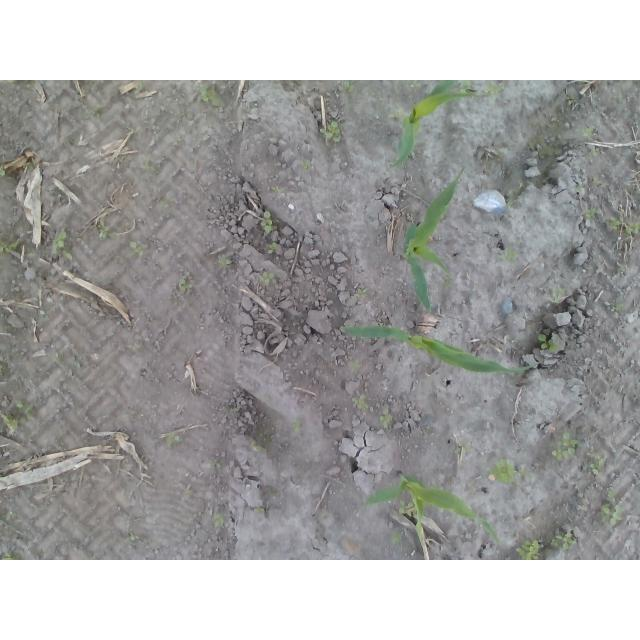Maize: (339, 320, 537, 378), (364, 472, 505, 545), (402, 166, 467, 318), (391, 80, 472, 166)
Weeds: (487, 457, 533, 487), (598, 482, 625, 530), (551, 430, 579, 459), (514, 536, 544, 561), (548, 531, 579, 553), (606, 216, 640, 235), (51, 232, 73, 261), (320, 119, 343, 144), (201, 82, 223, 107), (587, 446, 604, 474), (537, 333, 562, 352), (259, 206, 274, 235), (15, 399, 33, 423), (496, 246, 520, 264), (380, 407, 396, 432), (0, 411, 18, 433), (551, 286, 569, 304), (6, 80, 42, 89), (165, 431, 183, 448), (128, 239, 145, 257), (211, 511, 226, 530), (386, 530, 403, 546), (257, 270, 273, 287), (0, 238, 16, 254), (351, 395, 368, 410), (160, 193, 177, 207), (264, 240, 281, 253), (98, 223, 110, 241), (217, 255, 235, 267), (1, 552, 24, 561), (290, 417, 302, 434), (591, 175, 608, 187), (608, 303, 626, 314), (179, 271, 189, 289), (482, 81, 498, 92), (342, 80, 355, 93), (397, 80, 418, 88), (354, 287, 369, 298), (0, 357, 8, 377), (128, 530, 141, 542), (584, 206, 596, 219), (144, 163, 158, 174), (209, 458, 226, 467), (390, 109, 402, 121), (270, 186, 288, 194), (456, 442, 466, 455), (583, 128, 593, 141), (93, 103, 104, 114), (72, 355, 81, 368), (565, 95, 576, 105), (591, 147, 601, 158), (528, 140, 537, 152), (462, 80, 475, 88), (302, 158, 312, 168), (351, 360, 362, 368), (176, 133, 184, 144), (136, 84, 145, 93), (0, 164, 6, 177), (254, 507, 265, 513), (616, 268, 624, 273), (29, 165, 34, 172), (619, 208, 625, 213)
